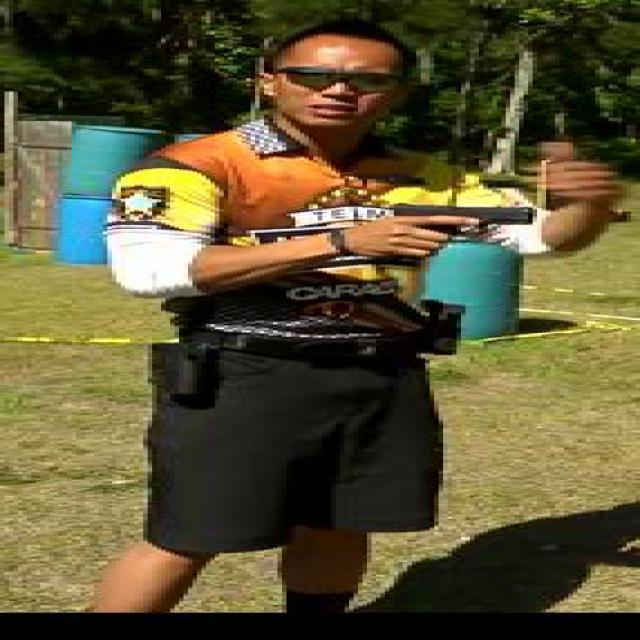gun: (372, 200, 542, 264)
